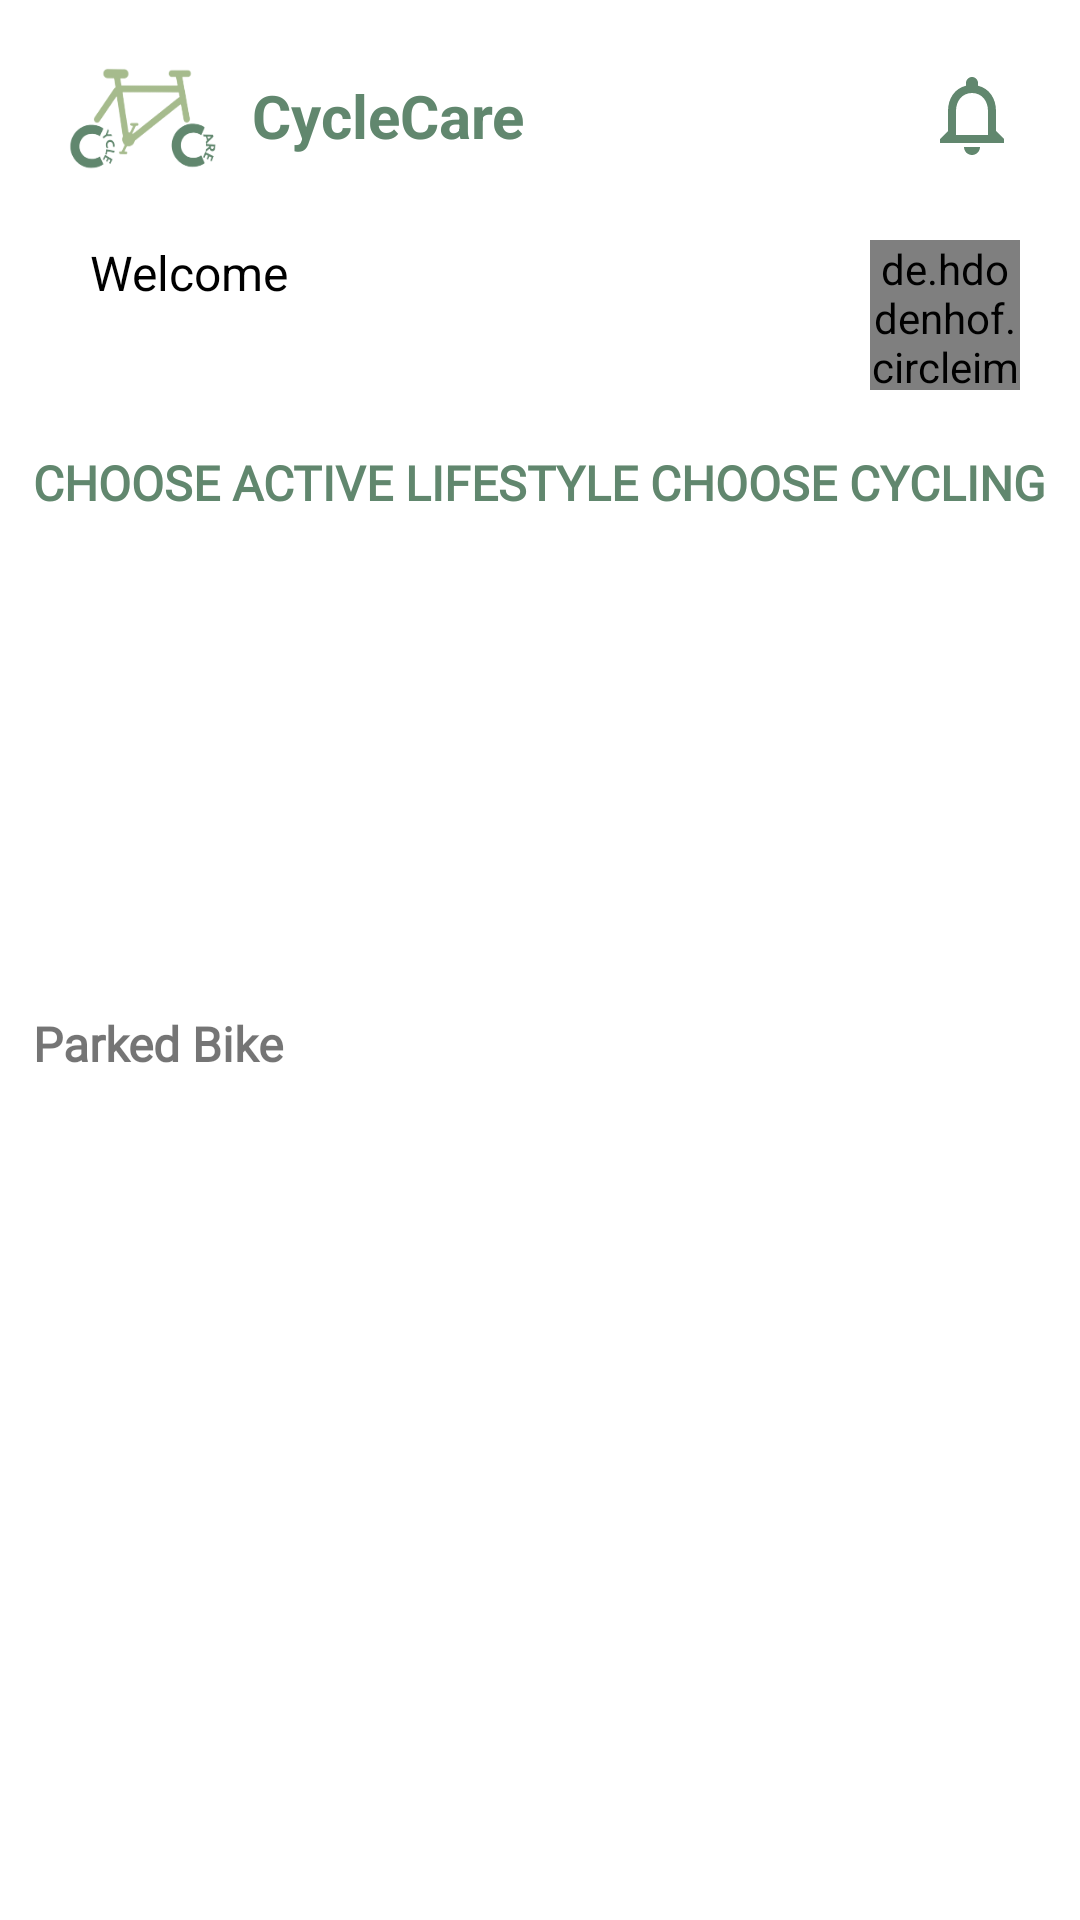

Icons on this 1080*1920 Android screen, each with the point to tap as [x,y]:
notifications none: [972,116]
